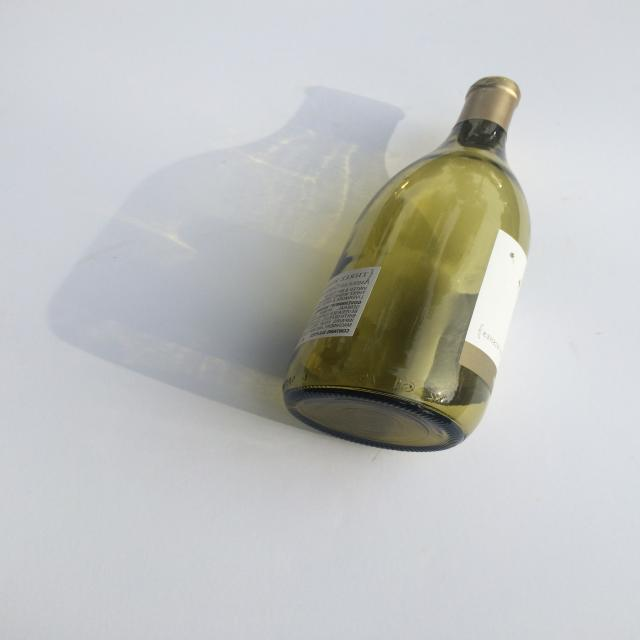glass: (282, 75, 532, 452)
